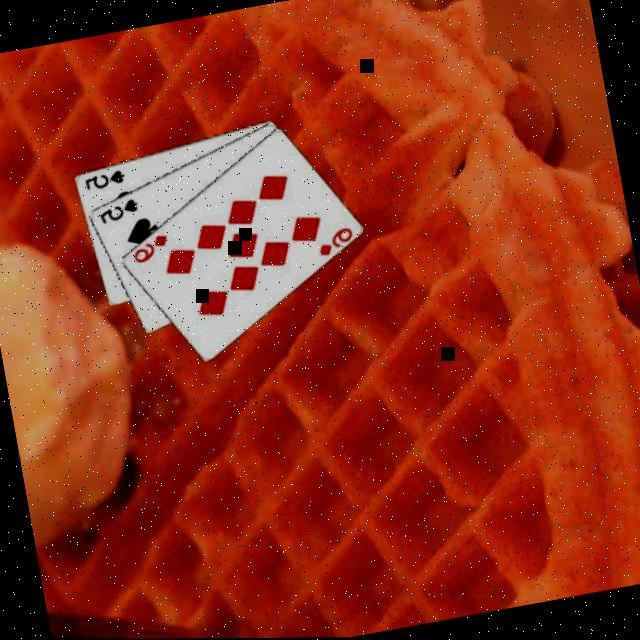5S: (92, 192, 140, 224), (79, 163, 126, 191)
9D: (125, 227, 172, 264), (310, 221, 357, 258)
